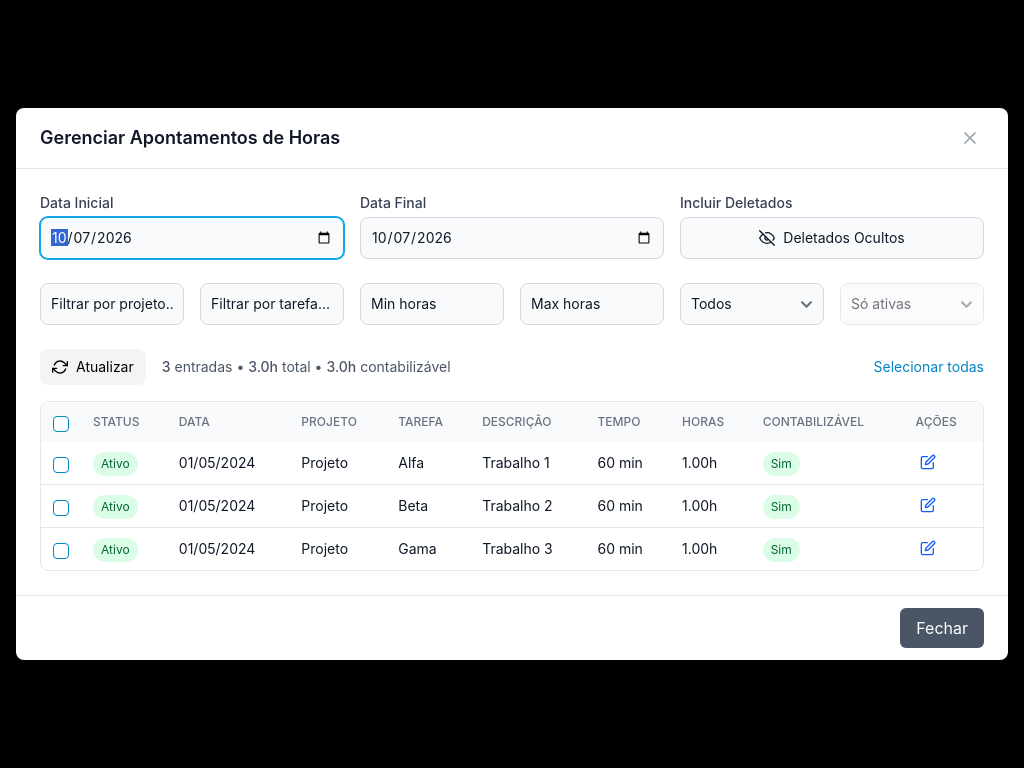
TimeEntryManager: reenviar exclusões que falharam › reenvia só os IDs que falharam e avisa quem abriu com a contagem real
Click the checkbox named "Selecionar todas as entradas ativas visíveis": (61, 424) 53,416 -> 69,432
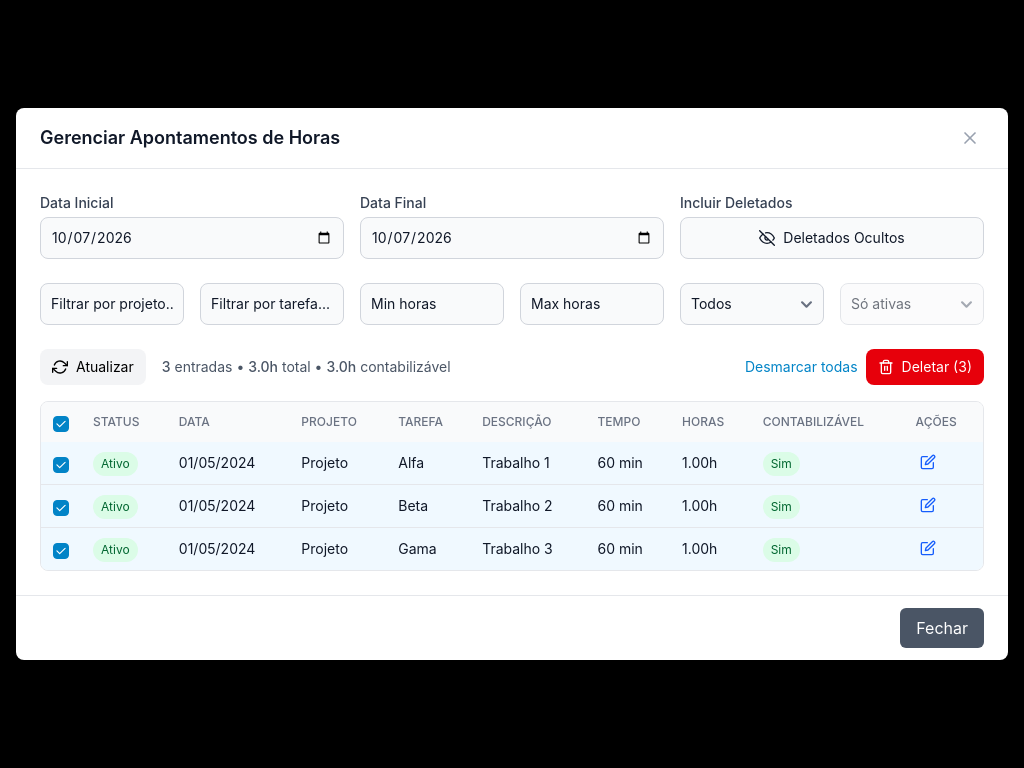
Click the button "Deletar (3)": (925, 367) 866,349 -> 984,385
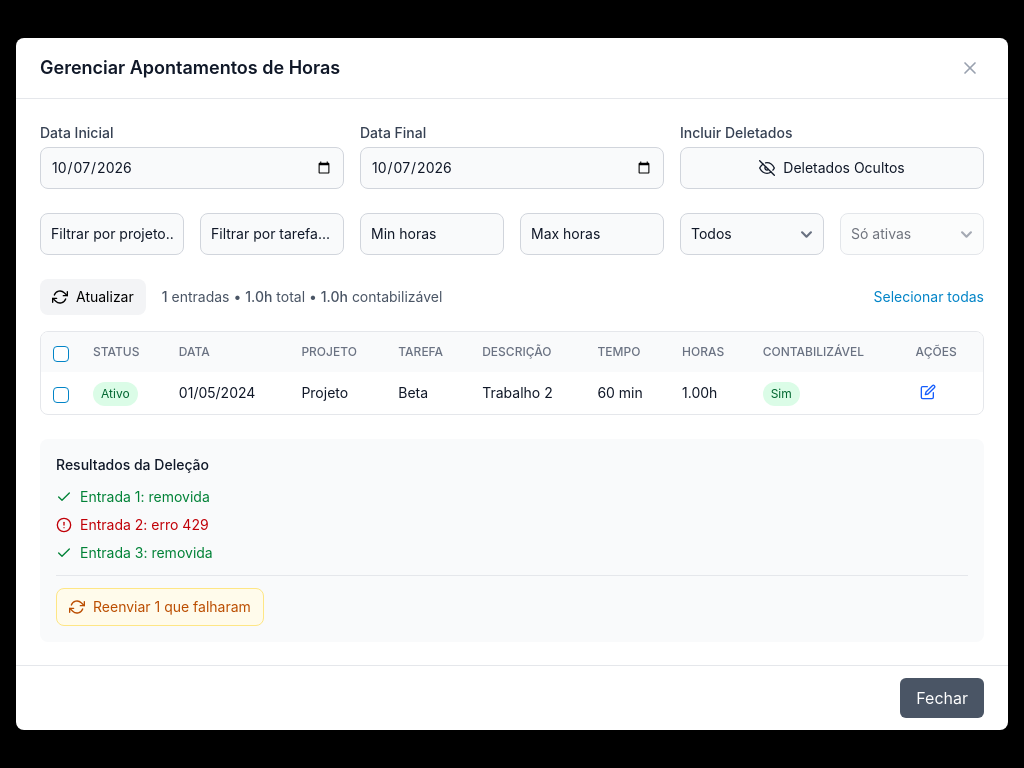
Click the button "Reenviar 1 que falharam": (160, 607) 56,588 -> 264,626
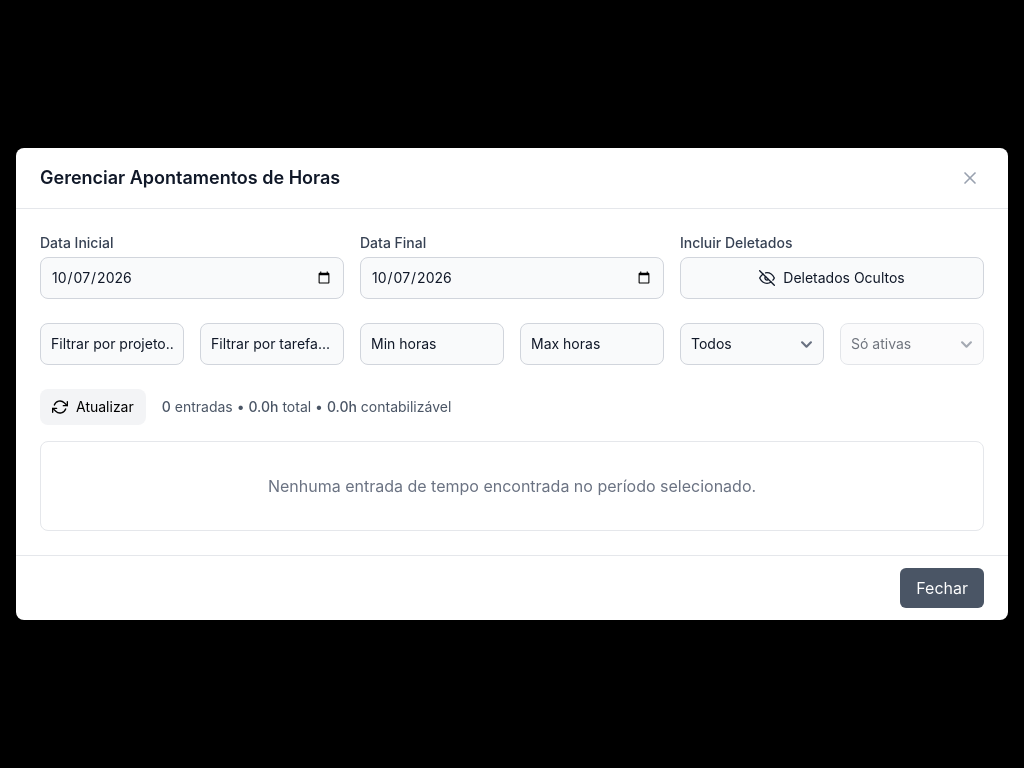
Check: the button "Reenviar" is gone
